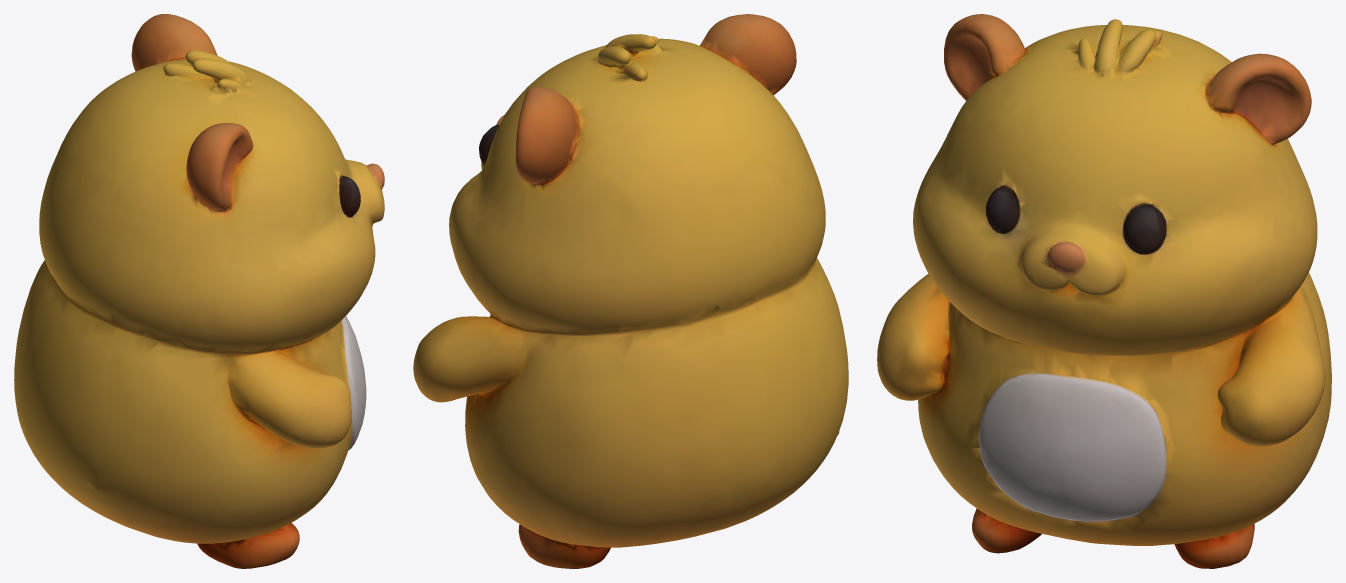
The model's file is hamster.glb.
3 renders of one model, left to right at view 1: azimuth 30°, elevation 25°; view 2: azimuth 150°, elevation 25°; view 3: azimuth 270°, elevation 25°, orthographic. The views are drawn at different scales.
Visible parts, largest first — view 1: tripo_node_75943de3-778a-4f25-9d44-3f479b88825c; view 2: tripo_node_75943de3-778a-4f25-9d44-3f479b88825c; view 3: tripo_node_75943de3-778a-4f25-9d44-3f479b88825c.
Boxes of the visible parts, bbox=[...] form: tripo_node_75943de3-778a-4f25-9d44-3f479b88825c: bbox=[14, 14, 384, 568]; tripo_node_75943de3-778a-4f25-9d44-3f479b88825c: bbox=[413, 14, 848, 568]; tripo_node_75943de3-778a-4f25-9d44-3f479b88825c: bbox=[877, 14, 1331, 568].
Bounding box in the file's own units: 0.724 × 0.9992 × 0.7973.
1 material, 1 textured.
